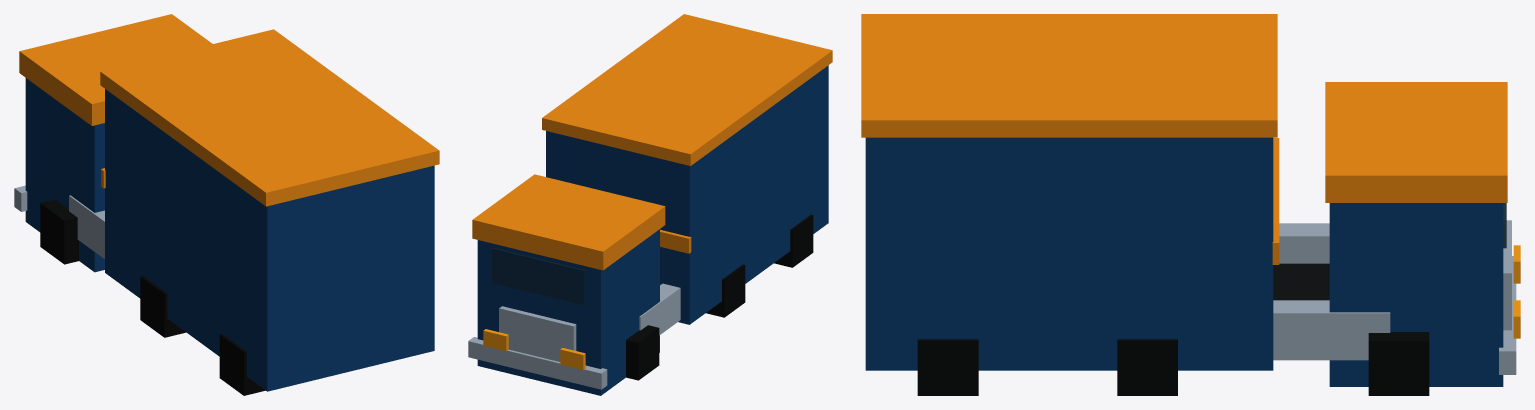
File: MOD_Truck_Premium.obj
The picture shows the model from 3 angles, left to right: view 1: azimuth 30°, elevation 25°; view 2: azimuth 150°, elevation 25°; view 3: azimuth 270°, elevation 25°; orthographic projection. The views are drawn at different scales.
Parts seen in each view (by area): view 1: Trailer, TrailerTop, CabRoof, Cab, Wheel_-1.22_1.2, Wheel_-1.22_6.4, Wheel_-1.22_4.1, TankL; view 2: Trailer, TrailerTop, Cab, CabRoof, Windshield, Grille, Bumper, Wheel_-1.22_1.2, TankL, Wheel_-1.22_4.1, Wheel_-1.22_6.4, TrailerStripe (+2 smaller); view 3: Trailer, TrailerTop, Cab, CabRoof, TankR, Wheel_1.22_1.2, Wheel_1.22_6.4, Wheel_1.22_4.1, Chassis, TankL, Bumper, Grille (+1 smaller).
Boxes of the visible parts, <box> form: Trailer: <box>105,89,434,391</box>; TrailerTop: <box>100,29,439,206</box>; CabRoof: <box>19,14,212,125</box>; Cab: <box>25,78,104,272</box>; Wheel_-1.22_1.2: <box>40,199,78,264</box>; Wheel_-1.22_6.4: <box>219,334,265,395</box>; Wheel_-1.22_4.1: <box>140,276,185,337</box>; TankL: <box>69,195,104,258</box>; Trailer: <box>546,65,828,324</box>; TrailerTop: <box>542,14,832,165</box>; Cab: <box>477,229,659,395</box>; CabRoof: <box>472,174,665,270</box>; Windshield: <box>492,247,585,305</box>; Grille: <box>499,306,576,361</box>; Bumper: <box>468,337,607,389</box>; Wheel_-1.22_1.2: <box>626,325,659,380</box>; TankL: <box>639,283,680,335</box>; Wheel_-1.22_4.1: <box>706,264,745,317</box>; Wheel_-1.22_6.4: <box>774,214,813,267</box>; TrailerStripe: <box>660,229,691,253</box>; Trailer: <box>865,137,1273,370</box>; TrailerTop: <box>861,14,1277,137</box>; Cab: <box>1329,203,1503,386</box>; CabRoof: <box>1325,82,1507,202</box>; TankR: <box>1273,300,1390,360</box>; Wheel_1.22_1.2: <box>1368,332,1429,395</box>; Wheel_1.22_6.4: <box>917,339,978,395</box>; Wheel_1.22_4.1: <box>1117,339,1177,395</box>; Chassis: <box>1273,263,1329,300</box>; TankL: <box>1279,223,1329,263</box>; Bumper: <box>1499,256,1516,374</box>; Grille: <box>1503,220,1511,330</box>.
Size of the model in its own units: 2.9 by 3.51 by 7.6.
